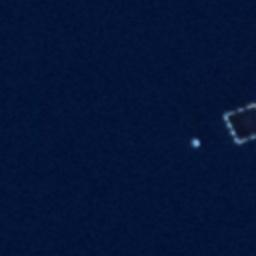square_solid: (220, 98, 256, 147)
